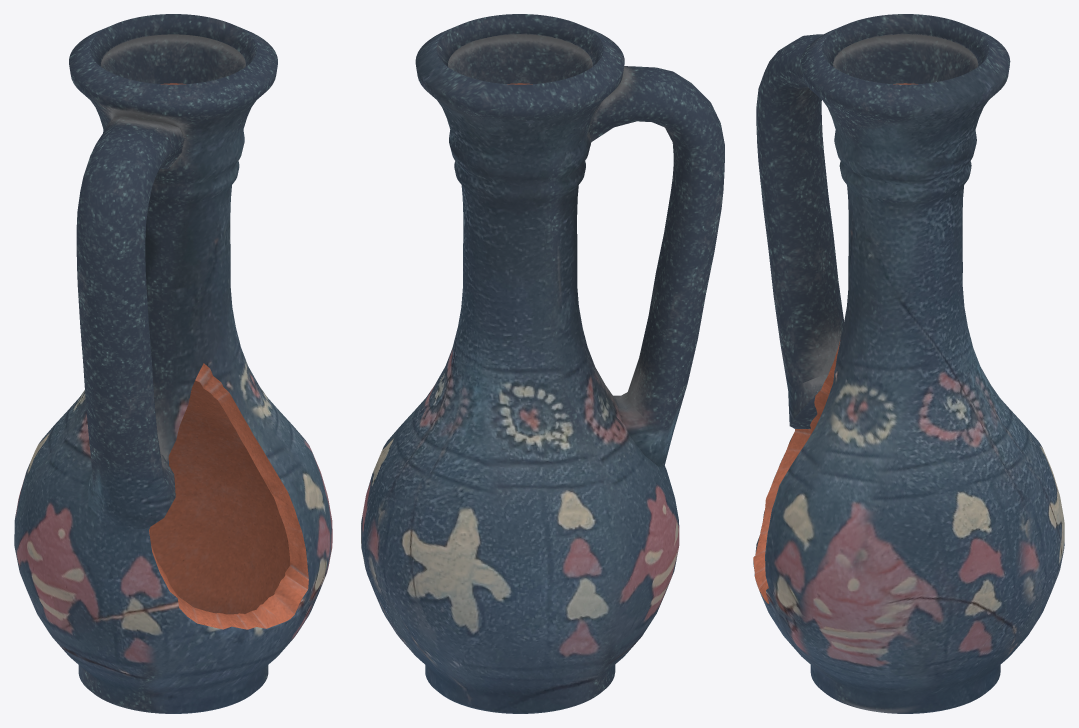
The model's file is aggeio0.glb.
3 views of the same model, side by side, from view 1: azimuth 30°, elevation 25°; view 2: azimuth 150°, elevation 25°; view 3: azimuth 270°, elevation 25° (orthographic).
Parts seen in each view (by area): view 1: aggeio spasmeno mesa; view 2: aggeio spasmeno mesa; view 3: aggeio spasmeno mesa.
Boxes of the visible parts, left/top/right/bottom form: aggeio spasmeno mesa: left=14, top=14, right=332, bottom=713; aggeio spasmeno mesa: left=361, top=14, right=724, bottom=713; aggeio spasmeno mesa: left=753, top=14, right=1064, bottom=713.
Bounding box in the file's own units: 0.714 × 1.5 × 0.6762.
Materials: 1 (1 with a texture image).
